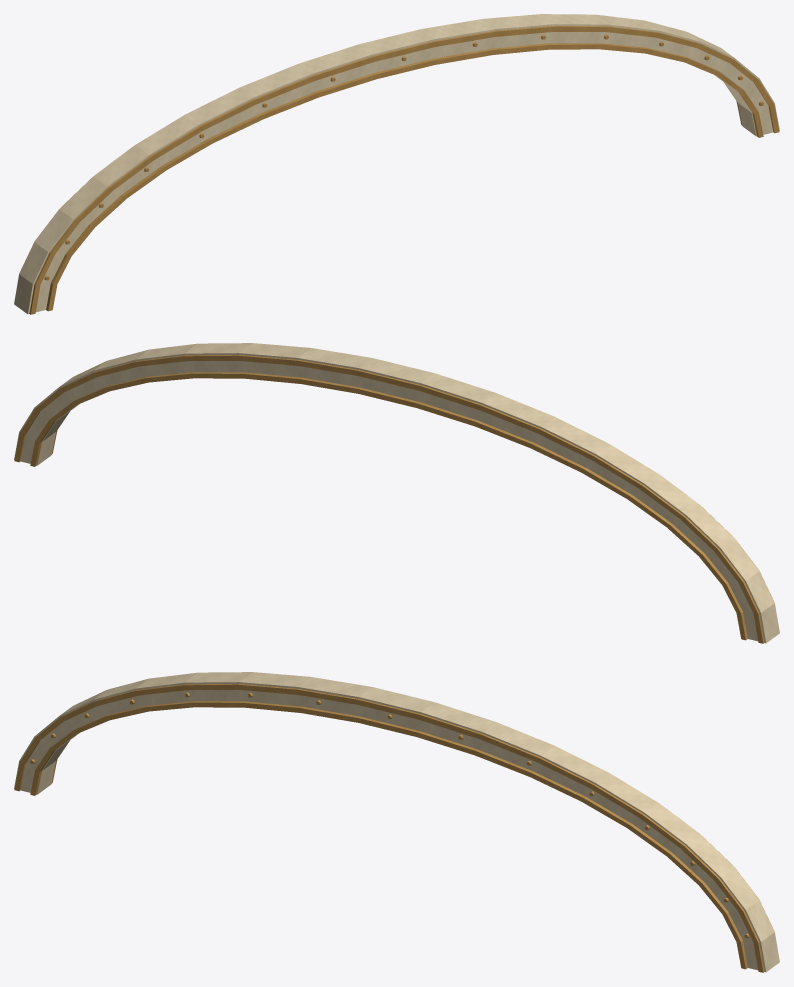
Rendered from SM_Theater_Stage_ProsceniumArc.fbx.
3 views of the same model, one above another, from view 1: azimuth 30°, elevation 25°; view 2: azimuth 150°, elevation 25°; view 3: azimuth 330°, elevation 25° (orthographic).
Parts seen in each view (by area): view 1: SM_Theater_Stage_ProsceniumArc_LOD0; view 2: SM_Theater_Stage_ProsceniumArc_LOD0; view 3: SM_Theater_Stage_ProsceniumArc_LOD0.
Boxes of the visible parts, x1,y1,x2,y2 form: SM_Theater_Stage_ProsceniumArc_LOD0: [14, 14, 779, 314]; SM_Theater_Stage_ProsceniumArc_LOD0: [14, 343, 779, 643]; SM_Theater_Stage_ProsceniumArc_LOD0: [14, 672, 779, 972].
Size of what is drawn, in the model's own units: 27.74 by 6.2 by 1.14.
